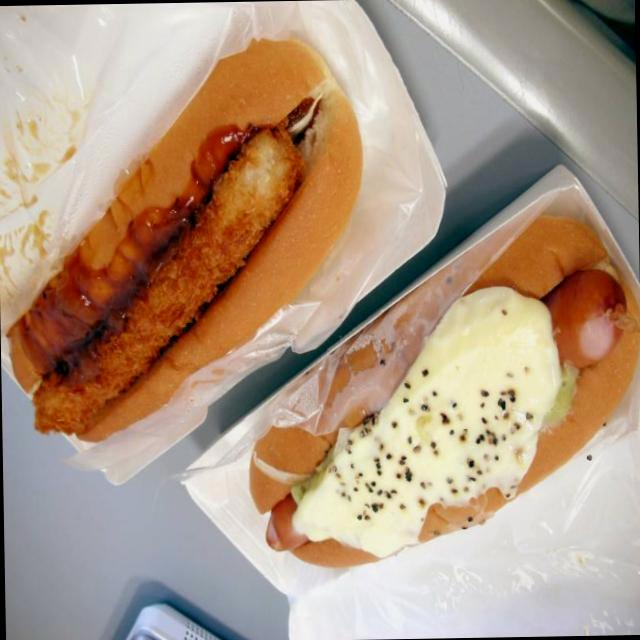Hot Dog: (0, 36, 382, 449)
